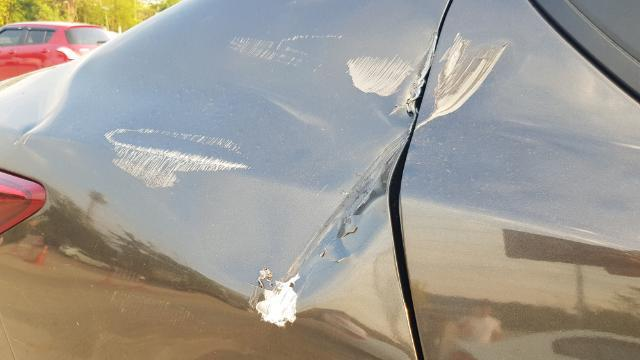dent: (20, 0, 451, 323)
scratch: (413, 30, 511, 131)
